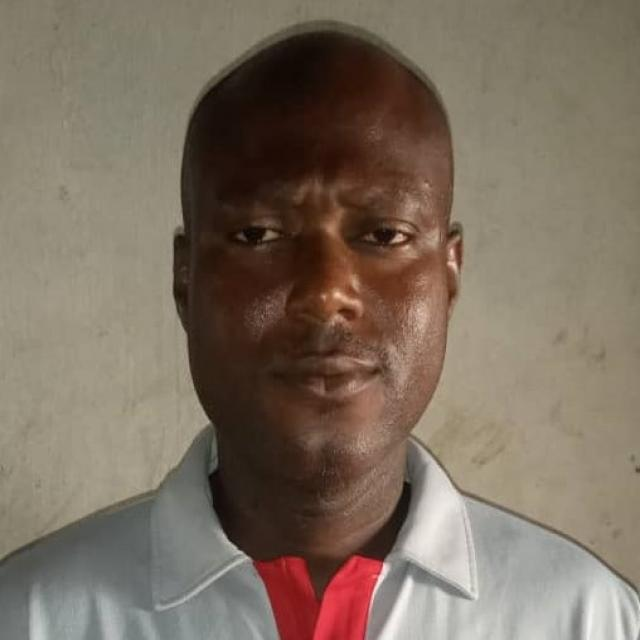sad: (164, 15, 472, 484)
